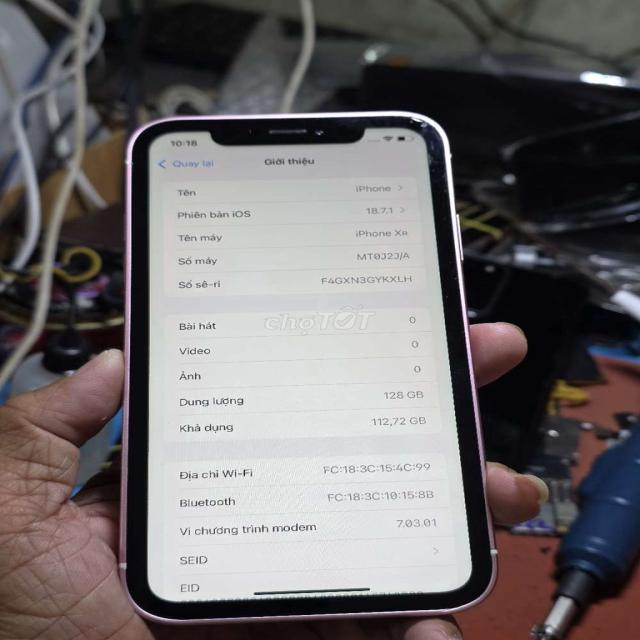gen_x_xs: (100, 108, 518, 628)
